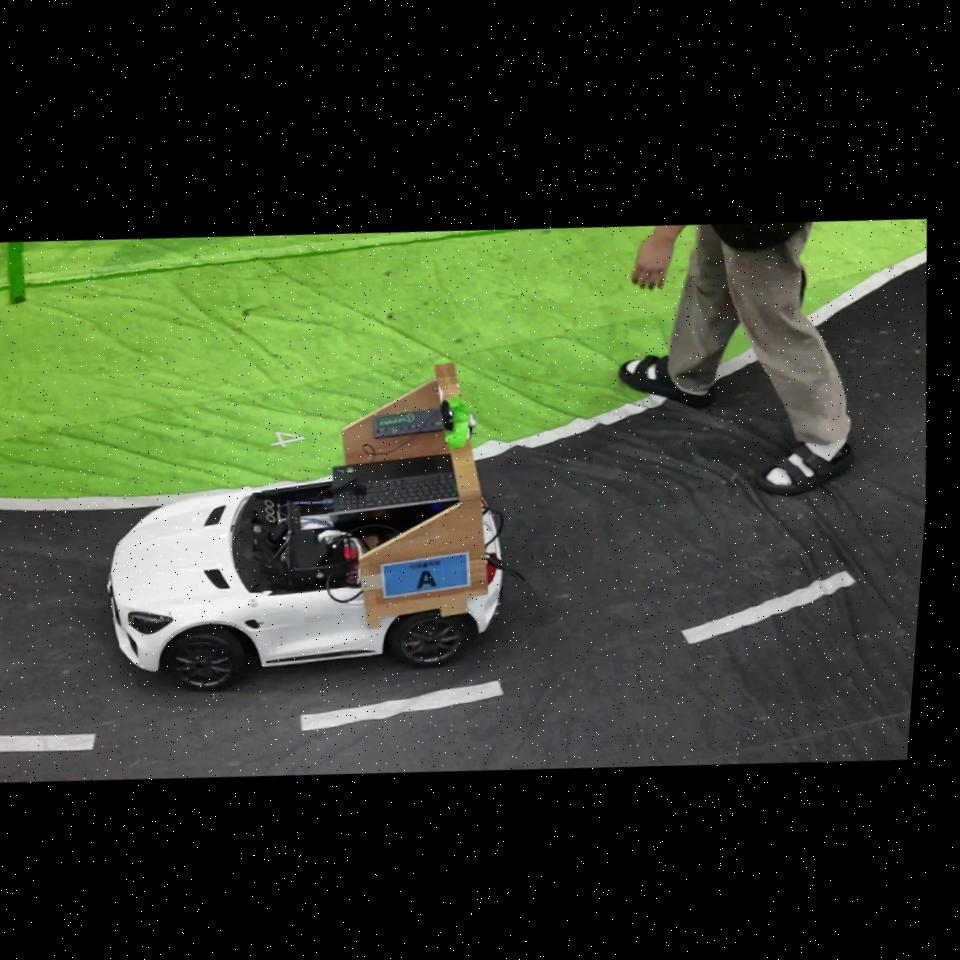broken_line: (682, 572, 855, 644), (301, 681, 503, 730), (0, 734, 95, 752)
